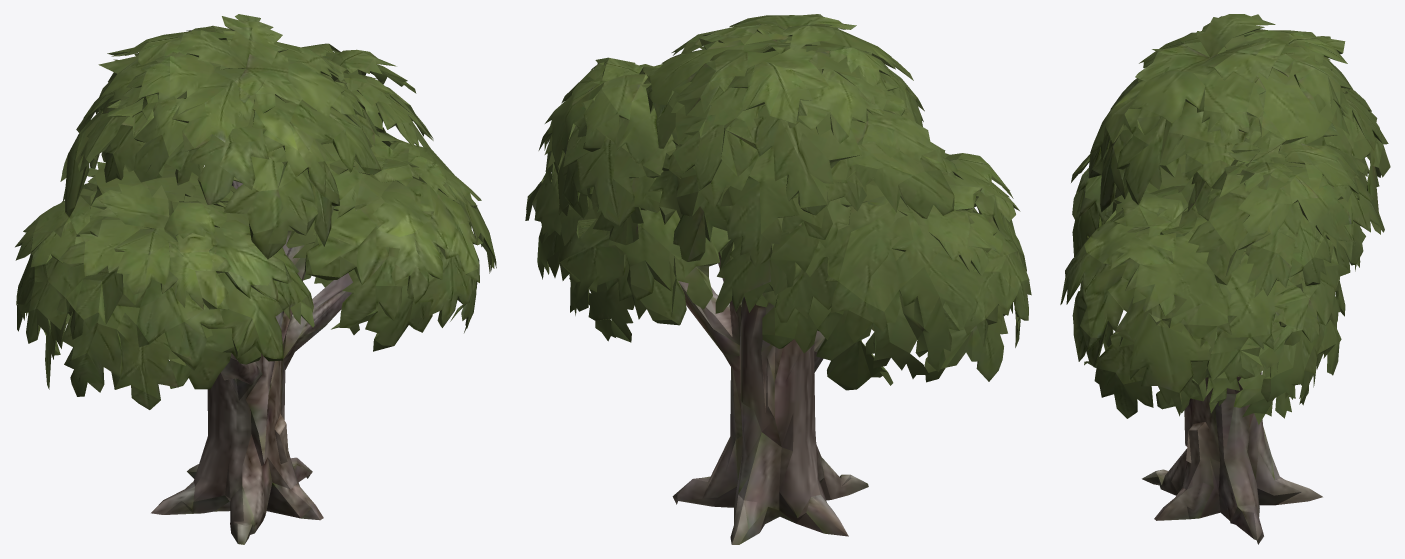
The model's file is street_tree.glb.
3 renders of one model, left to right at view 1: azimuth 30°, elevation 25°; view 2: azimuth 150°, elevation 25°; view 3: azimuth 270°, elevation 25°, orthographic. The views are drawn at different scales.
Bounding box in the file's own units: 1.87 × 1.88 × 1.2.
Materials: 1 (1 with a texture image).
